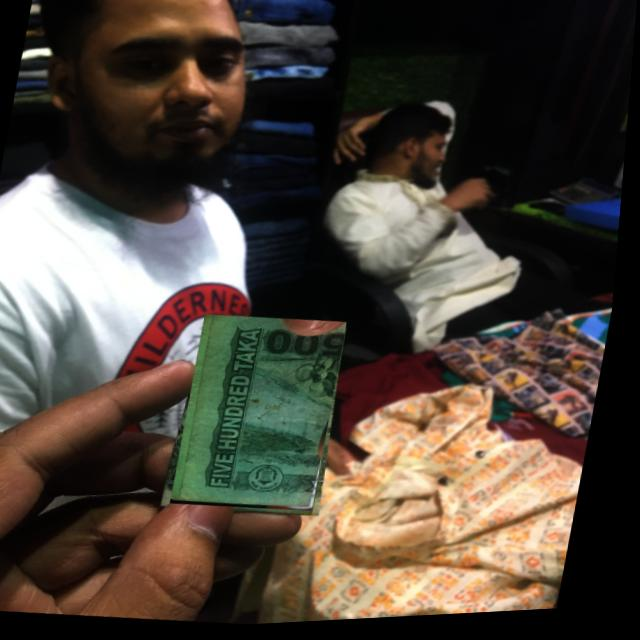Taka: (178, 310, 353, 520)
